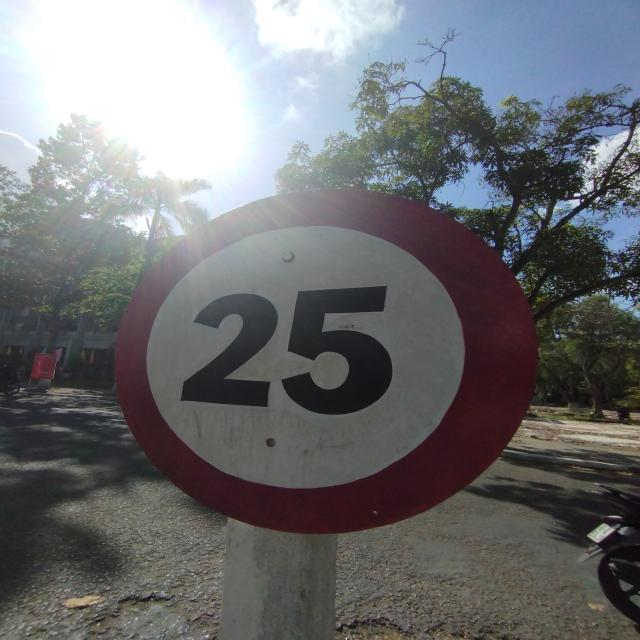Tre_Em: (110, 180, 546, 536)
